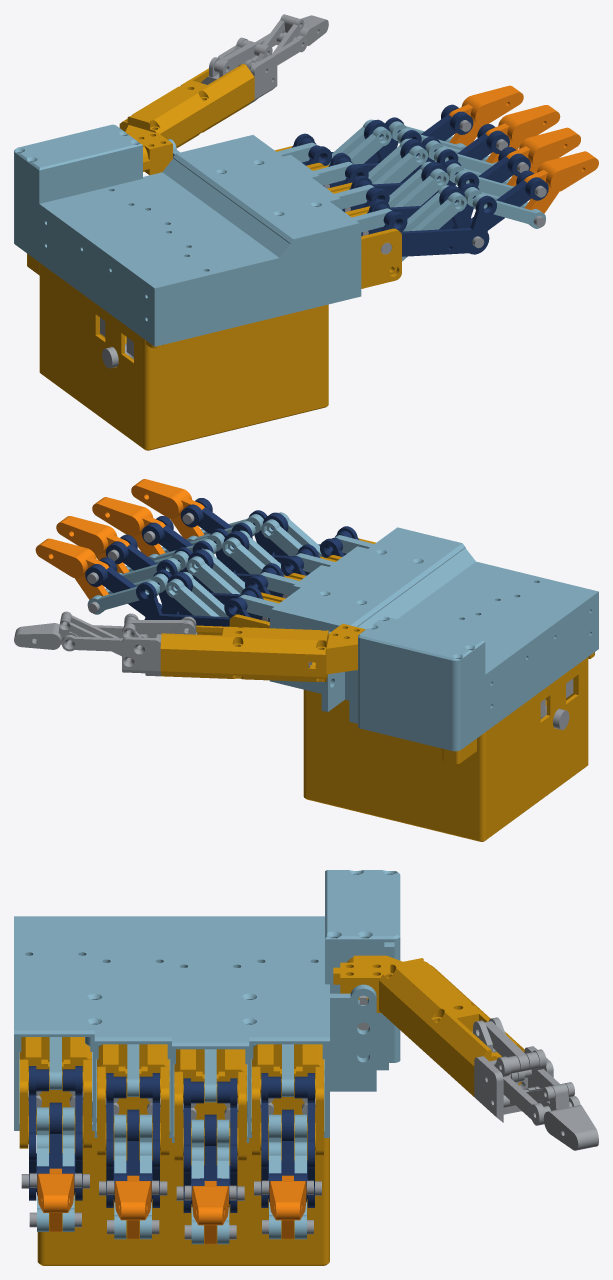
File: hand-v10.glb
3 views of the same model, one above another, from view 1: azimuth 30°, elevation 25°; view 2: azimuth 150°, elevation 25°; view 3: azimuth 270°, elevation 25° (orthographic). The views are drawn at different scales.
Visible parts, largest first — view 1: Palm, Electronics_box,_upper_tray__three_L298N,_9_V_block;_opening, Electronics_box,_lower_tray__Mega,_protoboard,_wire_hole,_US, Link_plate__palm_face_over_the_carriage_ears_and_links_, Distal_half_-Y (×4), Thumb_unit,_palm_half__ear_slot,_bolt_heads,_hub_clamp_half_, Proximal_half_-Y (×4), Middle_phalanx_half_-Y (×4), Coupler_bar_Q_-Y (×4), Pod_lid__holds_the_VEX_393_down;_the_thumb's_leads_cross_und, Finger_base__actuator_v4_, Thumb_unit,_back_half__nut_pockets,_hub_clamp_half_ (+6 smaller); view 2: Palm, Electronics_box,_upper_tray__three_L298N,_9_V_block;_opening, Electronics_box,_lower_tray__Mega,_protoboard,_wire_hole,_US, Link_plate__palm_face_over_the_carriage_ears_and_links_, Thumb_unit,_palm_half__ear_slot,_bolt_heads,_hub_clamp_half_, Distal_half_+Y (×4), Middle_phalanx_half_+Y (×4), Proximal_half_+Y (×4), Coupler_bar_Q_+Y (×4), Thumb_unit,_back_half__nut_pockets,_hub_clamp_half_, Pod_lid__holds_the_VEX_393_down;_the_thumb's_leads_cross_und, Proximal_half_-Y (×3) (+8 smaller); view 3: Palm, Link_plate__palm_face_over_the_carriage_ears_and_links_, Electronics_box,_upper_tray__three_L298N,_9_V_block;_opening, Finger_base__actuator_v4_ (×4), Thumb_unit,_palm_half__ear_slot,_bolt_heads,_hub_clamp_half_, Pod_lid__holds_the_VEX_393_down;_the_thumb's_leads_cross_und, Proximal_half_-Y (×4), Proximal_half_+Y (×4), Housing_half_-Y__nut_pockets_ (×4), Housing_half_+Y__bolt_heads,_grub_access_ (×4), Distal_half_-Y (×4), Electronics_box,_lower_tray__Mega,_protoboard,_wire_hole,_US (+14 smaller).
Part boxes in pixels (box(x1,y1,x2,y2)): Palm: box(14, 139, 361, 346); Electronics_box,_upper_tray__three_L298N,_9_V_block;_opening: box(39, 317, 328, 447); Electronics_box,_lower_tray__Mega,_protoboard,_wire_hole,_US: box(27, 253, 328, 393); Link_plate__palm_face_over_the_carriage_ears_and_links_: box(173, 135, 361, 243); Distal_half_-Y (×4): box(451, 89, 598, 213); Thumb_unit,_palm_half__ear_slot,_bolt_heads,_hub_clamp_half_: box(119, 64, 254, 166); Proximal_half_-Y (×4): box(305, 130, 496, 256); Middle_phalanx_half_-Y (×4): box(366, 111, 548, 230); Coupler_bar_Q_-Y (×4): box(347, 126, 466, 261); Pod_lid__holds_the_VEX_393_down;_the_thumb's_leads_cross_und: box(14, 124, 142, 172); Finger_base__actuator_v4_: box(350, 211, 401, 288); Thumb_unit,_back_half__nut_pockets,_hub_clamp_half_: box(143, 88, 254, 175); Palm: box(269, 548, 598, 751); Electronics_box,_upper_tray__three_L298N,_9_V_block;_opening: box(303, 700, 588, 838); Electronics_box,_lower_tray__Mega,_protoboard,_wire_hole,_US: box(303, 652, 594, 786); Link_plate__palm_face_over_the_carriage_ears_and_links_: box(269, 527, 465, 628); Thumb_unit,_palm_half__ear_slot,_bolt_heads,_hub_clamp_half_: box(160, 623, 365, 665); Distal_half_+Y (×4): box(35, 482, 202, 599); Middle_phalanx_half_+Y (×4): box(85, 504, 286, 616); Proximal_half_+Y (×4): box(136, 522, 344, 626); Coupler_bar_Q_+Y (×4): box(165, 519, 302, 616); Thumb_unit,_back_half__nut_pockets,_hub_clamp_half_: box(160, 657, 357, 682); Pod_lid__holds_the_VEX_393_down;_the_thumb's_leads_cross_und: box(358, 616, 485, 662); Proximal_half_-Y (×3): box(153, 510, 359, 621); Palm: box(14, 916, 400, 1142); Link_plate__palm_face_over_the_carriage_ears_and_links_: box(14, 987, 329, 1049); Electronics_box,_upper_tray__three_L298N,_9_V_block;_opening: box(37, 1187, 329, 1261); Finger_base__actuator_v4_ (×4): box(19, 1059, 324, 1160); Thumb_unit,_palm_half__ear_slot,_bolt_heads,_hub_clamp_half_: box(333, 955, 524, 1081); Pod_lid__holds_the_VEX_393_down;_the_thumb's_leads_cross_und: box(325, 870, 400, 942); Proximal_half_-Y (×4): box(29, 1066, 281, 1212); Proximal_half_+Y (×4): box(62, 1066, 314, 1212); Housing_half_-Y__nut_pockets_ (×4): box(19, 1037, 281, 1083); Housing_half_+Y__bolt_heads,_grub_access_ (×4): box(62, 1037, 324, 1083); Distal_half_-Y (×4): box(37, 1168, 287, 1244); Electronics_box,_lower_tray__Mega,_protoboard,_wire_hole,_US: box(49, 1131, 329, 1189).
Bounding box in the file's own units: 0.3089 × 0.1297 × 0.2419.
